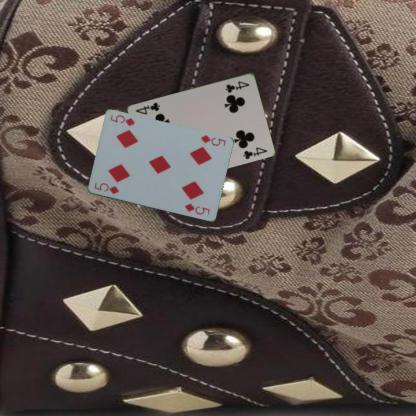4c: (223, 78, 251, 94)
5d: (91, 180, 120, 196), (198, 132, 227, 148)
